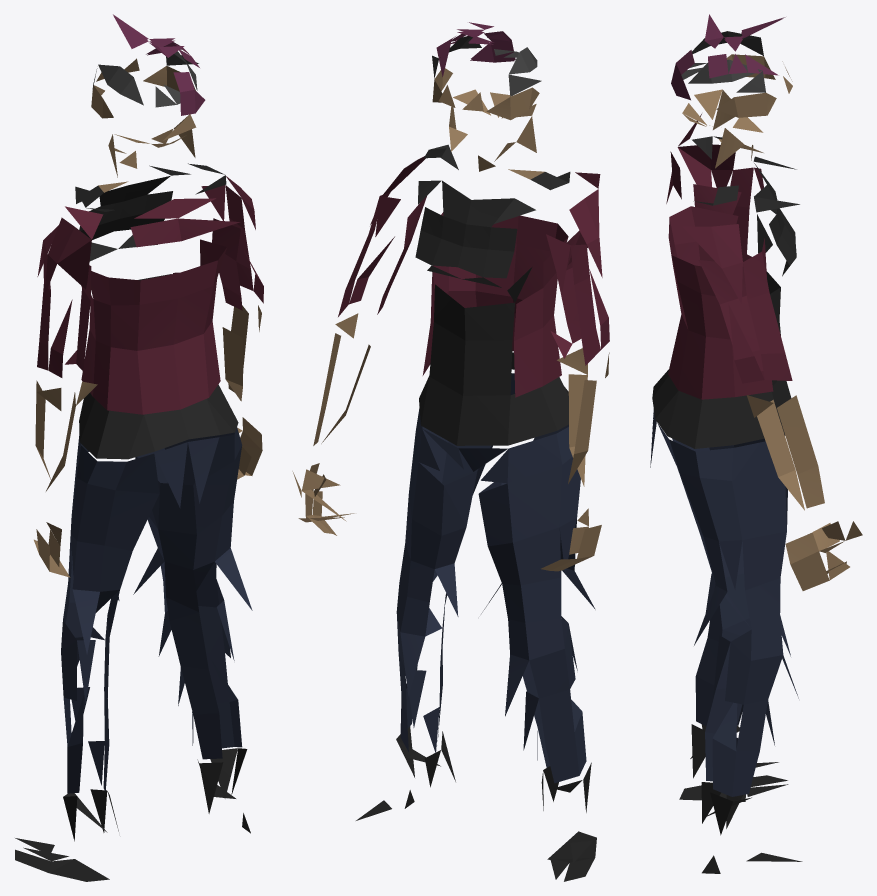
The model's file is personfar_8_idle.fbx.
3 views of the same model, side by side, from view 1: azimuth 30°, elevation 25°; view 2: azimuth 150°, elevation 25°; view 3: azimuth 270°, elevation 25° (orthographic).
Visible parts, largest first — view 1: Female; view 2: Female; view 3: Female.
Boxes of the visible parts, x1,y1,x2,y2 form: Female: (15,14,263,881); Female: (292,22,609,881); Female: (650,14,862,873).
Size of the model in its own units: 0.3298 by 0.9902 by 0.2476.
